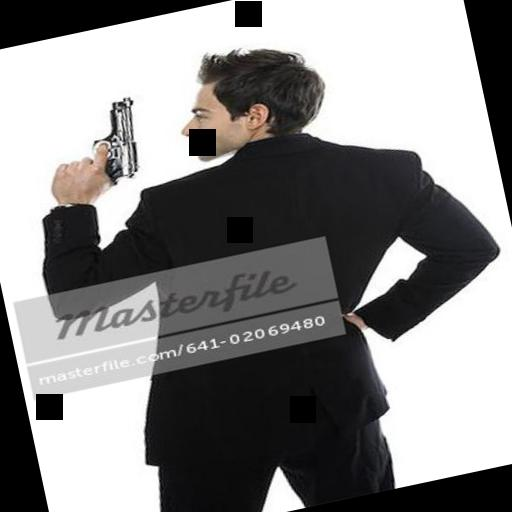Handgun: (24, 88, 164, 204)
